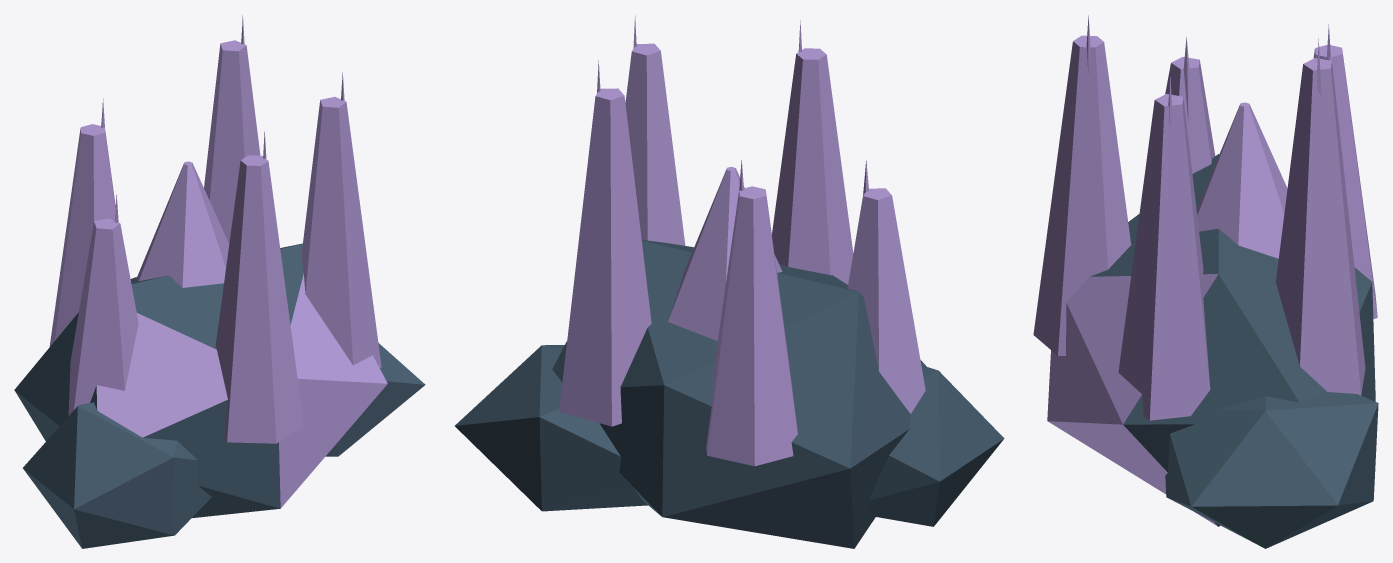
Rendered from ore_mithril_ore.obj.
3 renders of one model, left to right at view 1: azimuth 30°, elevation 25°; view 2: azimuth 150°, elevation 25°; view 3: azimuth 270°, elevation 25°, orthographic. The views are drawn at different scales.
Visible parts, largest first — view 1: ore_mithril_ore; view 2: ore_mithril_ore; view 3: ore_mithril_ore.
Part boxes in pixels (box(x1,y1,x2,y2)): ore_mithril_ore: box(14, 15, 425, 548); ore_mithril_ore: box(455, 15, 1004, 548); ore_mithril_ore: box(1033, 15, 1378, 548).
Bounding box in the file's own units: 1.96 × 2.06 × 1.32.
